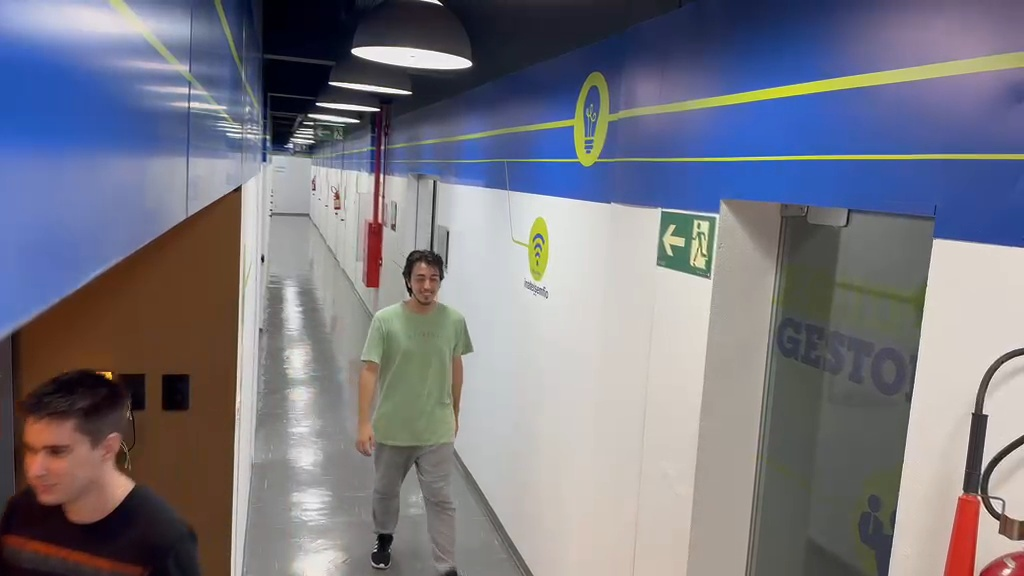person: (0, 369, 201, 573), (356, 249, 474, 575)
